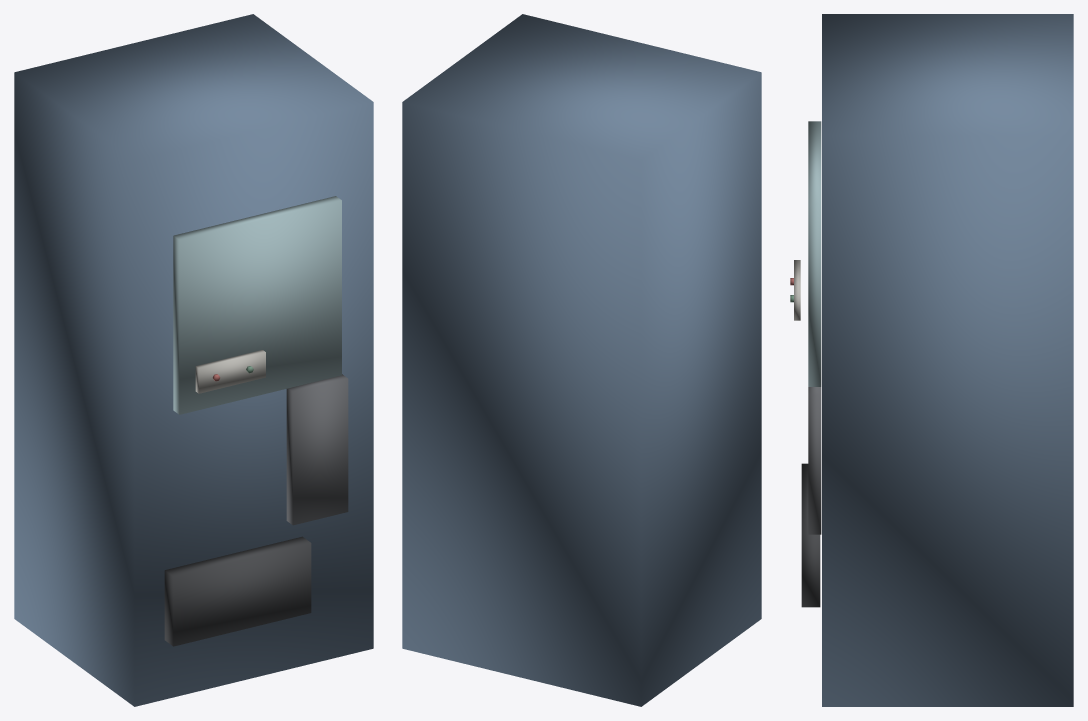
File: drink_vending_machine__reinforced.glb
3 renders of one model, left to right at view 1: azimuth 30°, elevation 25°; view 2: azimuth 150°, elevation 25°; view 3: azimuth 270°, elevation 25°, orthographic. The views are drawn at different scales.
Parts seen in each view (by area): view 1: world; view 2: world; view 3: world.
Boxes of the visible parts, <box> form: world: <box>14,14,373,706</box>; world: <box>402,14,761,706</box>; world: <box>790,14,1073,706</box>.
Bounding box in the file's own units: 0.8034 × 1.75 × 0.789.
